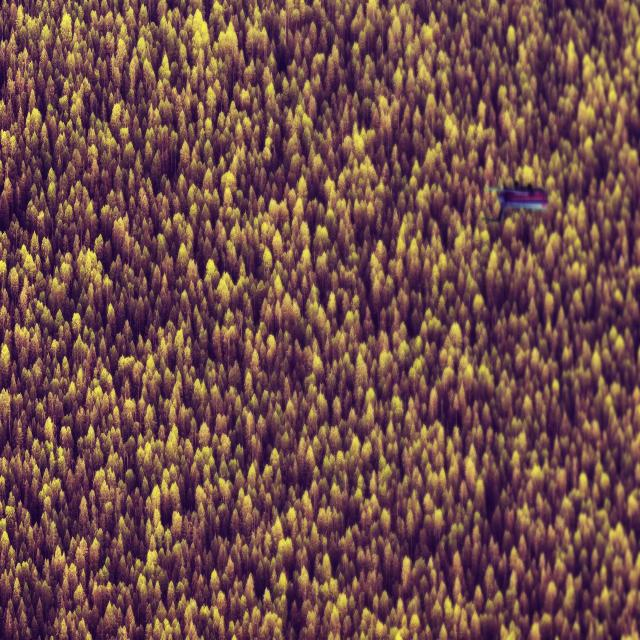airplane: (484, 184, 549, 213)
